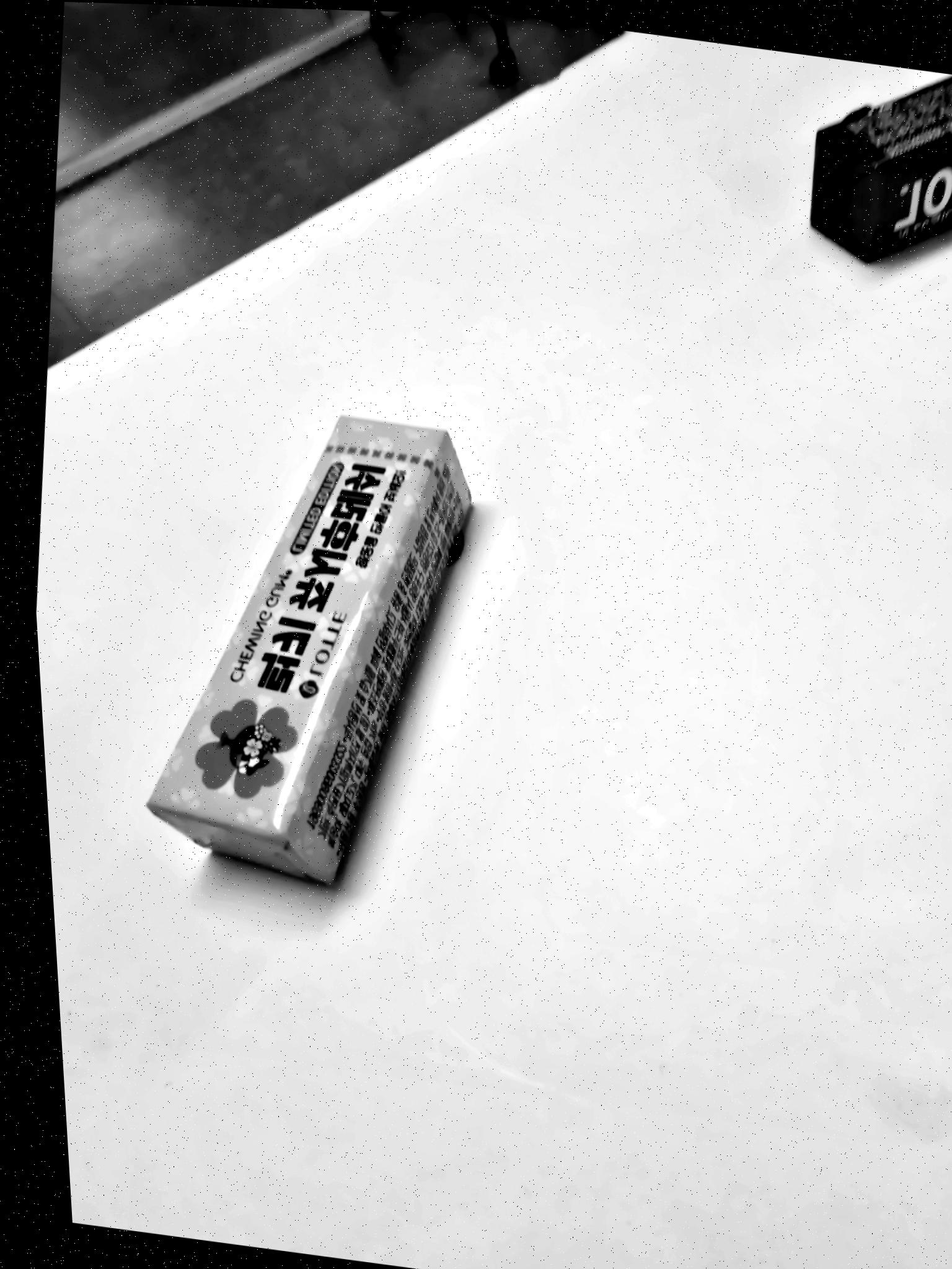gum_yellow: (148, 417, 471, 884)
